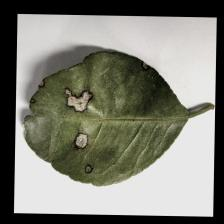canker: (27, 60, 101, 162)
